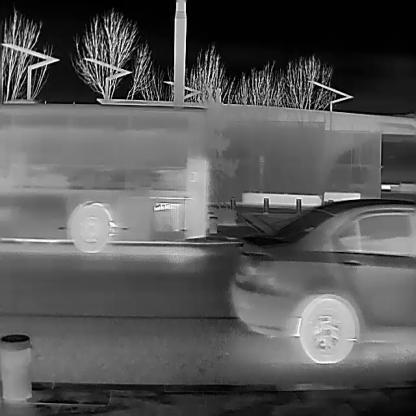car: (2, 98, 208, 254), (229, 198, 415, 363)
